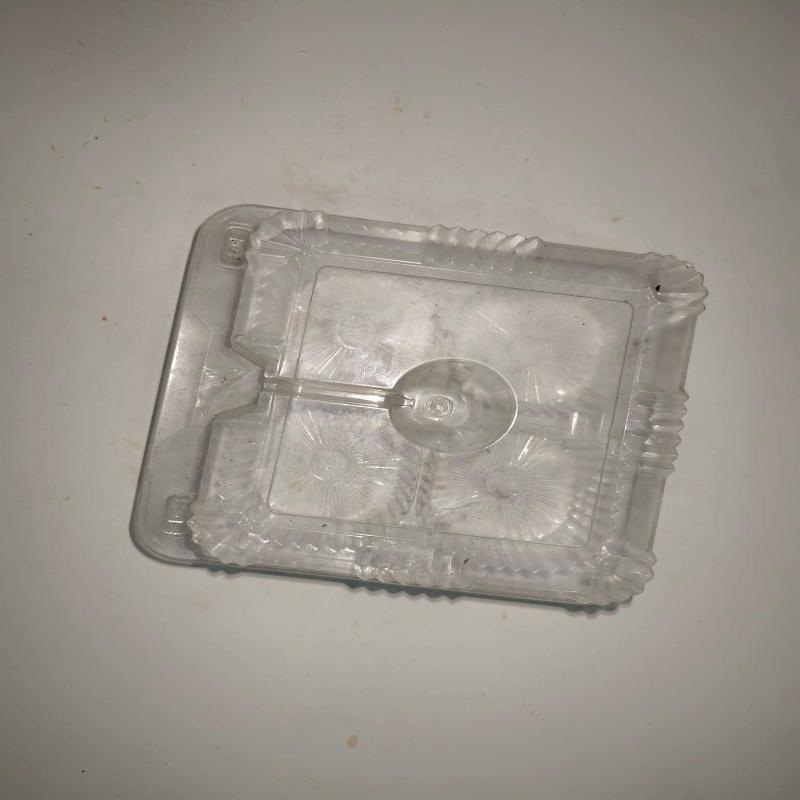plastic container: (128, 205, 709, 617)
